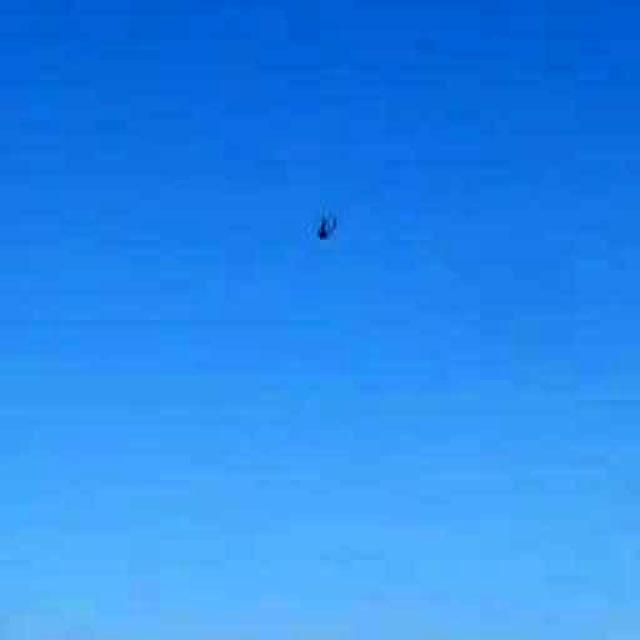drone: (289, 191, 359, 261)
